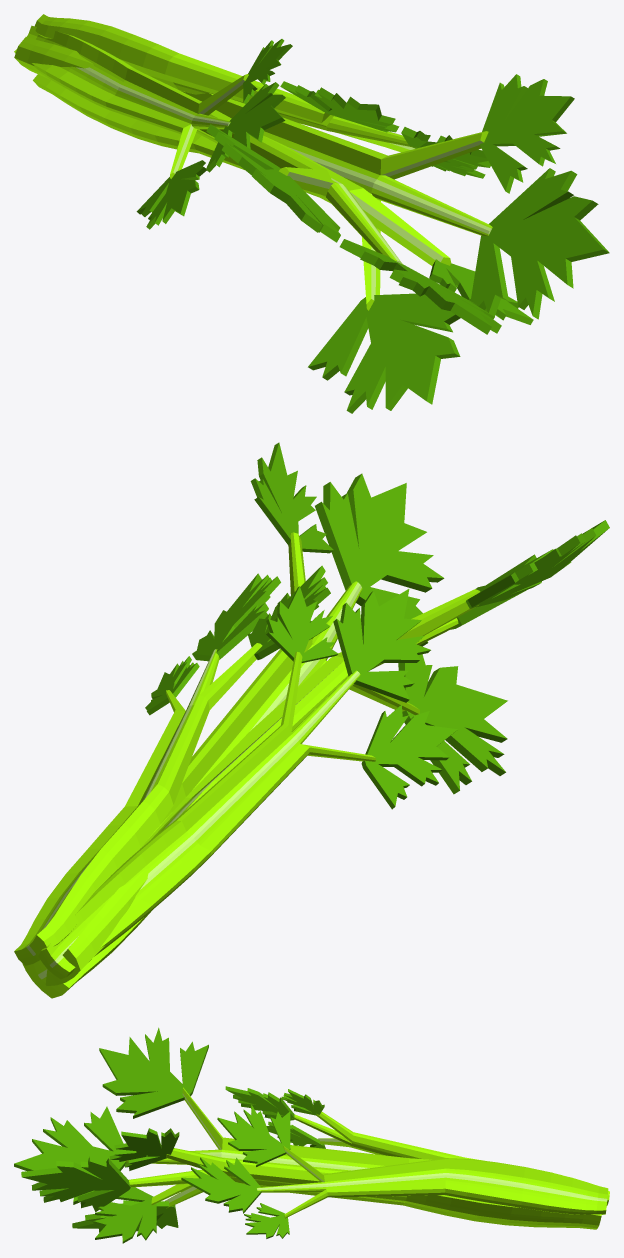
Rendered from Apio.fbx.
3 views of the same model, one above another, from view 1: azimuth 30°, elevation 25°; view 2: azimuth 150°, elevation 25°; view 3: azimuth 270°, elevation 25° (orthographic). The views are drawn at different scales.
Parts seen in each view (by area): view 1: Apio; view 2: Apio; view 3: Apio.
Part boxes in pixels (left/top/right/bottom): Apio: left=14, top=14, right=609, bottom=413; Apio: left=14, top=442, right=609, bottom=998; Apio: left=14, top=1027, right=609, bottom=1243.
Bounding box in the file's own units: 13.91 × 11.04 × 33.73.
